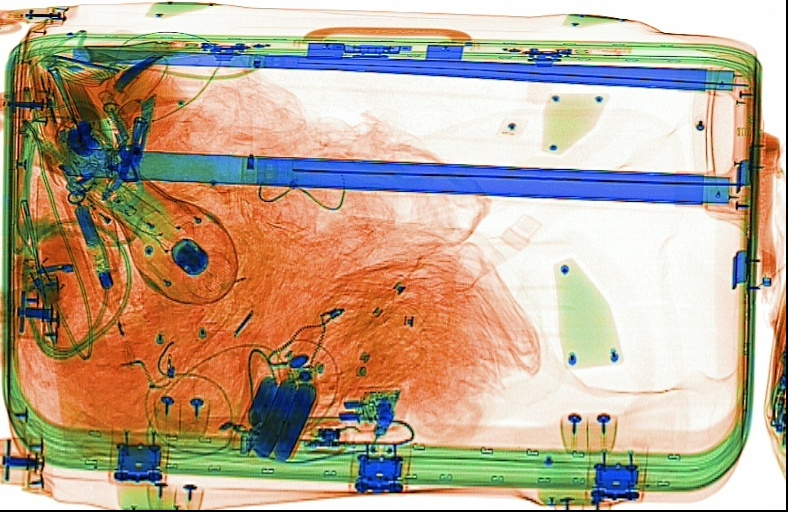lighter: (64, 175, 124, 234)
powerbank: (237, 370, 321, 465)
